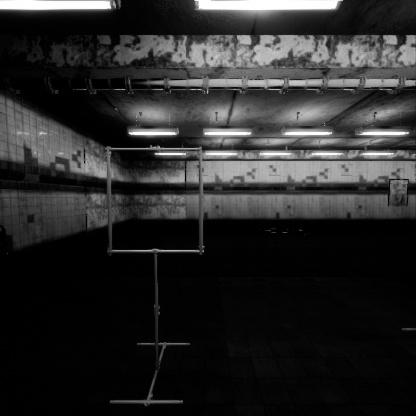gate: (106, 161, 211, 268)
